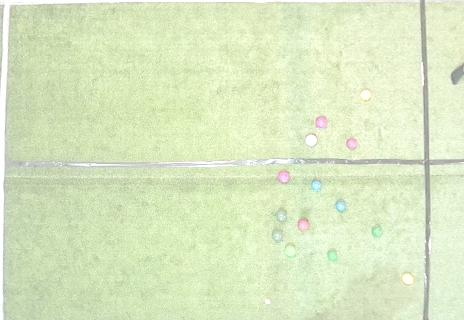blue: (335, 200, 346, 212), (311, 180, 322, 191)
green: (284, 245, 296, 257), (276, 210, 287, 222), (272, 230, 283, 242), (371, 226, 383, 237), (327, 251, 337, 261)
red: (305, 134, 318, 146), (278, 171, 290, 183), (298, 219, 309, 231), (316, 117, 327, 129), (346, 139, 357, 149)
vline: (419, 0, 463, 319), (0, 0, 13, 319)
white: (265, 299, 271, 304)
yellow: (360, 89, 371, 101), (402, 273, 414, 284)
